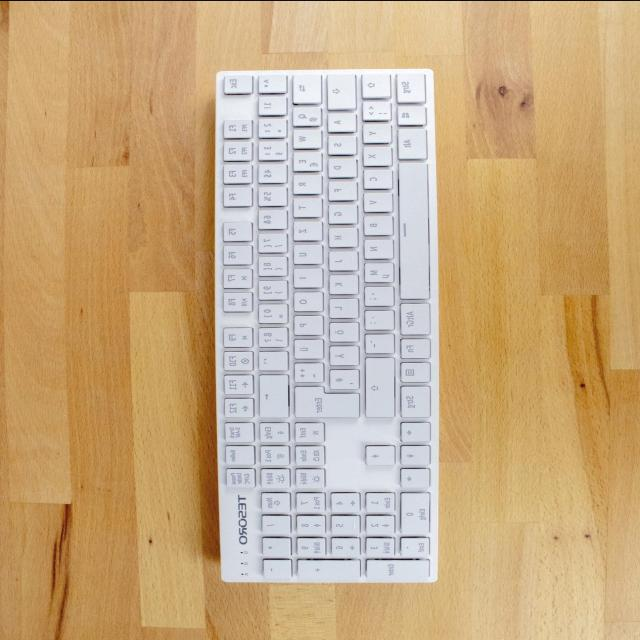0: (254, 301, 286, 322)
1: (255, 94, 285, 114)
2: (255, 116, 285, 136)
3: (255, 139, 285, 160)
4: (255, 162, 285, 182)
5: (255, 184, 285, 204)
6: (255, 207, 285, 228)
7: (255, 230, 285, 251)
8: (254, 254, 286, 275)
9: (254, 277, 286, 298)
a: (324, 111, 354, 131)
accent: (257, 350, 287, 370)
ae: (326, 343, 358, 364)
alt-left: (395, 126, 426, 158)
altgr-right: (396, 300, 428, 334)
b: (360, 213, 392, 234)
c: (360, 167, 390, 187)
caret: (256, 73, 285, 91)
comma: (361, 284, 393, 304)
d: (324, 156, 355, 176)
del: (258, 373, 288, 416)
e: (290, 149, 320, 169)
enter: (290, 384, 358, 416)
f: (325, 179, 355, 199)
g: (325, 202, 355, 222)
h: (325, 225, 355, 245)
hash: (326, 367, 358, 388)
i: (290, 266, 320, 286)
j: (325, 249, 357, 269)
k: (326, 272, 357, 292)
keyboard: (208, 63, 442, 585)
l: (326, 296, 357, 316)
less: (359, 99, 389, 119)
m: (360, 260, 392, 282)
minus: (362, 331, 392, 352)
n: (360, 237, 392, 258)
o: (290, 289, 321, 310)
oe: (326, 319, 357, 340)
p: (289, 313, 321, 333)
plus: (290, 360, 322, 381)
point: (361, 308, 392, 329)
q: (289, 104, 320, 124)
r: (290, 172, 320, 192)
s: (325, 133, 355, 153)
shift-left: (359, 71, 389, 96)
shift-lock: (324, 72, 354, 108)
shift-right: (362, 355, 393, 416)
space: (396, 160, 428, 298)
ss: (256, 324, 286, 345)
strg-left: (393, 69, 423, 101)
strg-right: (397, 383, 429, 417)
t: (289, 196, 319, 216)
tab: (289, 72, 319, 102)
u: (290, 242, 321, 262)
ue: (290, 336, 322, 357)
v: (360, 190, 390, 210)
w: (289, 127, 319, 147)
x: (360, 144, 390, 164)
y: (360, 122, 390, 142)
z: (290, 219, 320, 239)
